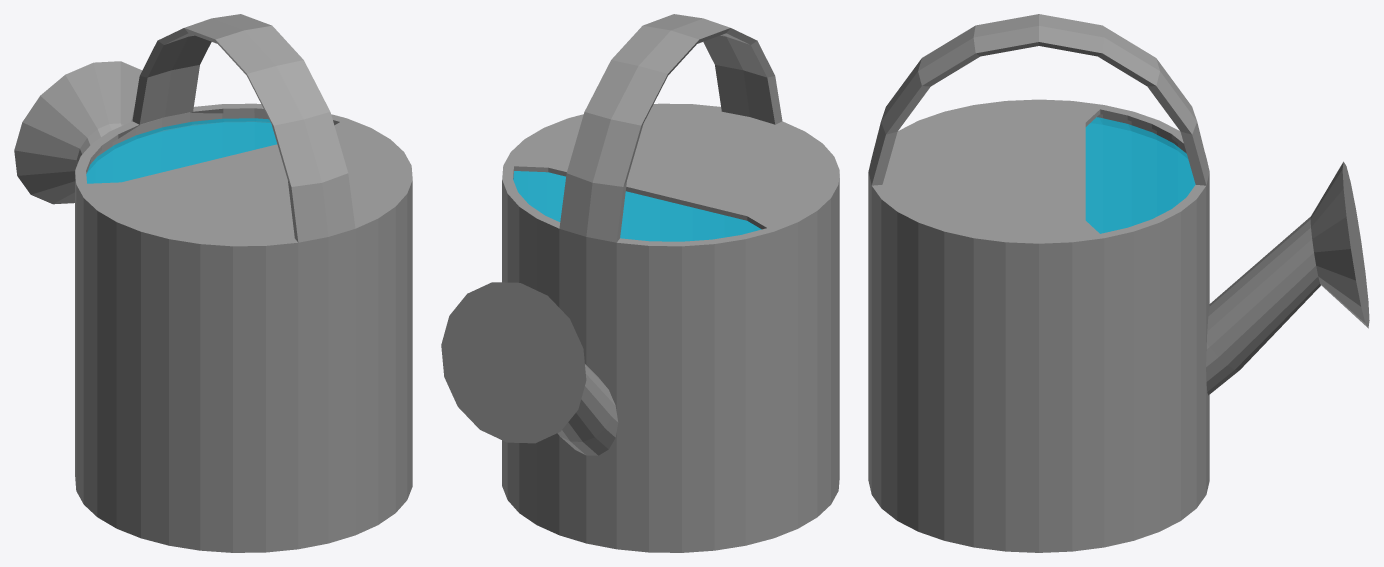
Rendered from watering can.fbx.
3 renders of one model, left to right at view 1: azimuth 30°, elevation 25°; view 2: azimuth 150°, elevation 25°; view 3: azimuth 270°, elevation 25°, orthographic.
Parts seen in each view (by area): view 1: Cylinder, Circle; view 2: Cylinder, Circle; view 3: Cylinder, Circle.
Boxes of the visible parts, x1,y1,x2,y2 form: Cylinder: (14, 14, 412, 552); Circle: (86, 118, 276, 183); Cylinder: (441, 14, 839, 552); Circle: (513, 171, 761, 241); Cylinder: (868, 14, 1369, 552); Circle: (1085, 117, 1195, 233).
Size of the model in its own units: 377 by 554 by 553.
